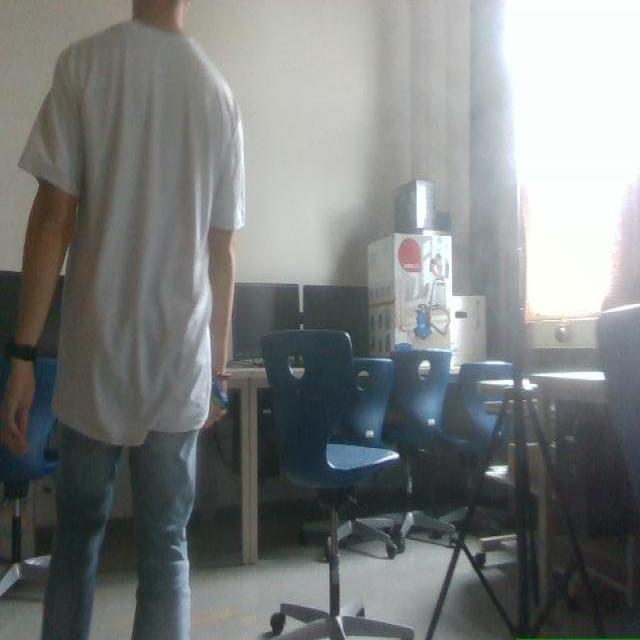humans: (0, 0, 244, 639)
objects: (262, 331, 413, 639), (0, 358, 57, 595)
